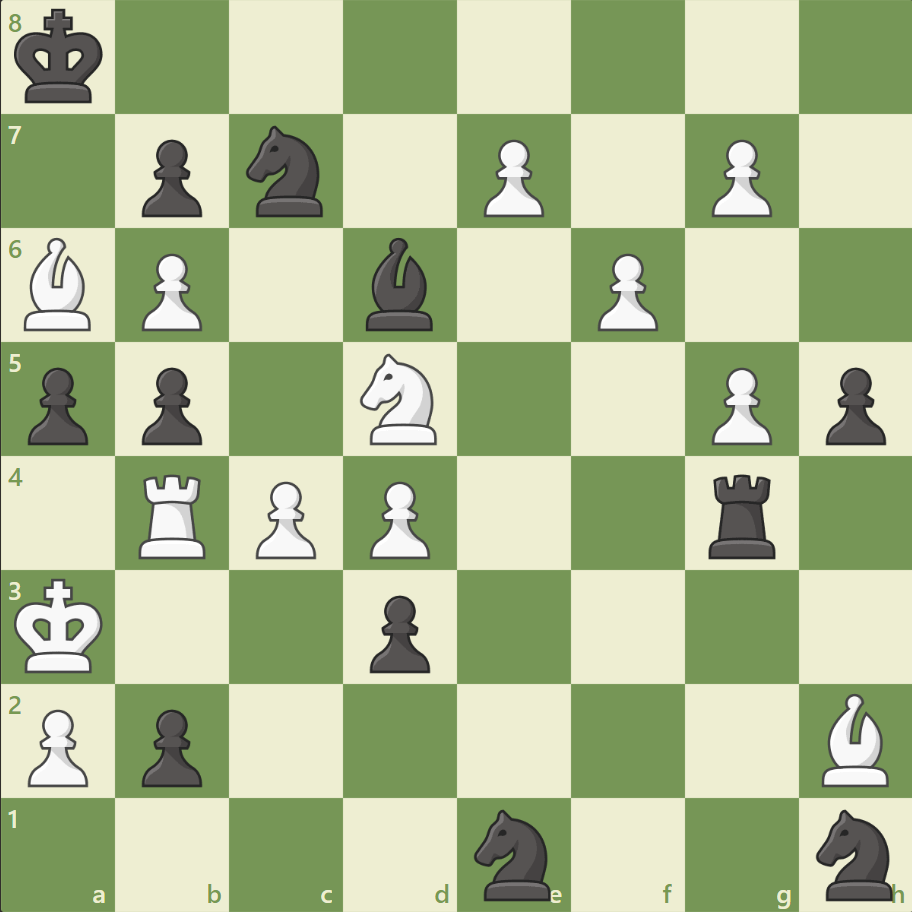B: (17, 233, 101, 336), (812, 687, 896, 790)
K: (11, 571, 111, 679)
N: (351, 348, 449, 450)
P: (474, 132, 549, 223), (701, 132, 776, 223), (133, 246, 208, 337), (701, 359, 776, 450), (247, 473, 322, 564), (20, 700, 95, 791), (588, 246, 662, 337), (361, 473, 435, 564)
R: (133, 466, 215, 563)
b: (358, 233, 442, 336)
k: (11, 4, 111, 112)
n: (238, 121, 335, 223), (465, 802, 562, 904), (806, 802, 903, 904)
p: (133, 132, 208, 223), (20, 359, 95, 450), (133, 359, 208, 450), (133, 700, 208, 791), (815, 359, 889, 450), (361, 586, 435, 677)
r: (700, 466, 783, 563)
